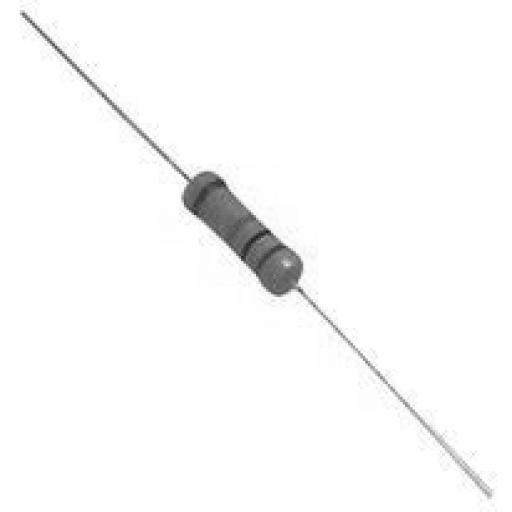RESISTOR: (105, 136, 363, 320)
